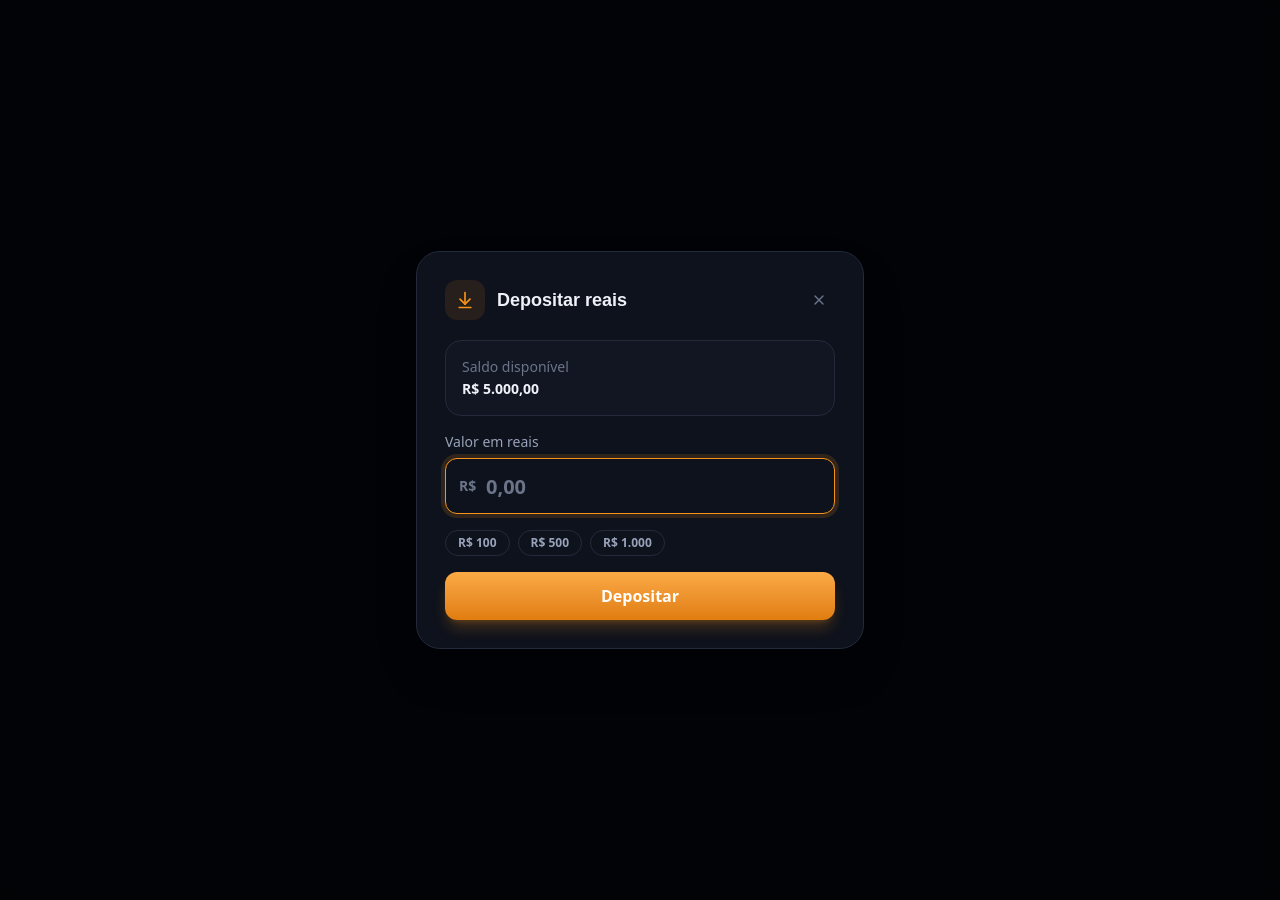
Scenario: OperationDialog › sends the amount in the API format and closes on success
The width and height of the screenshot is (1280, 900).
Type "1500,50" into the field labelled "Valor em reais" at (640, 486), box 445,458 -> 835,514
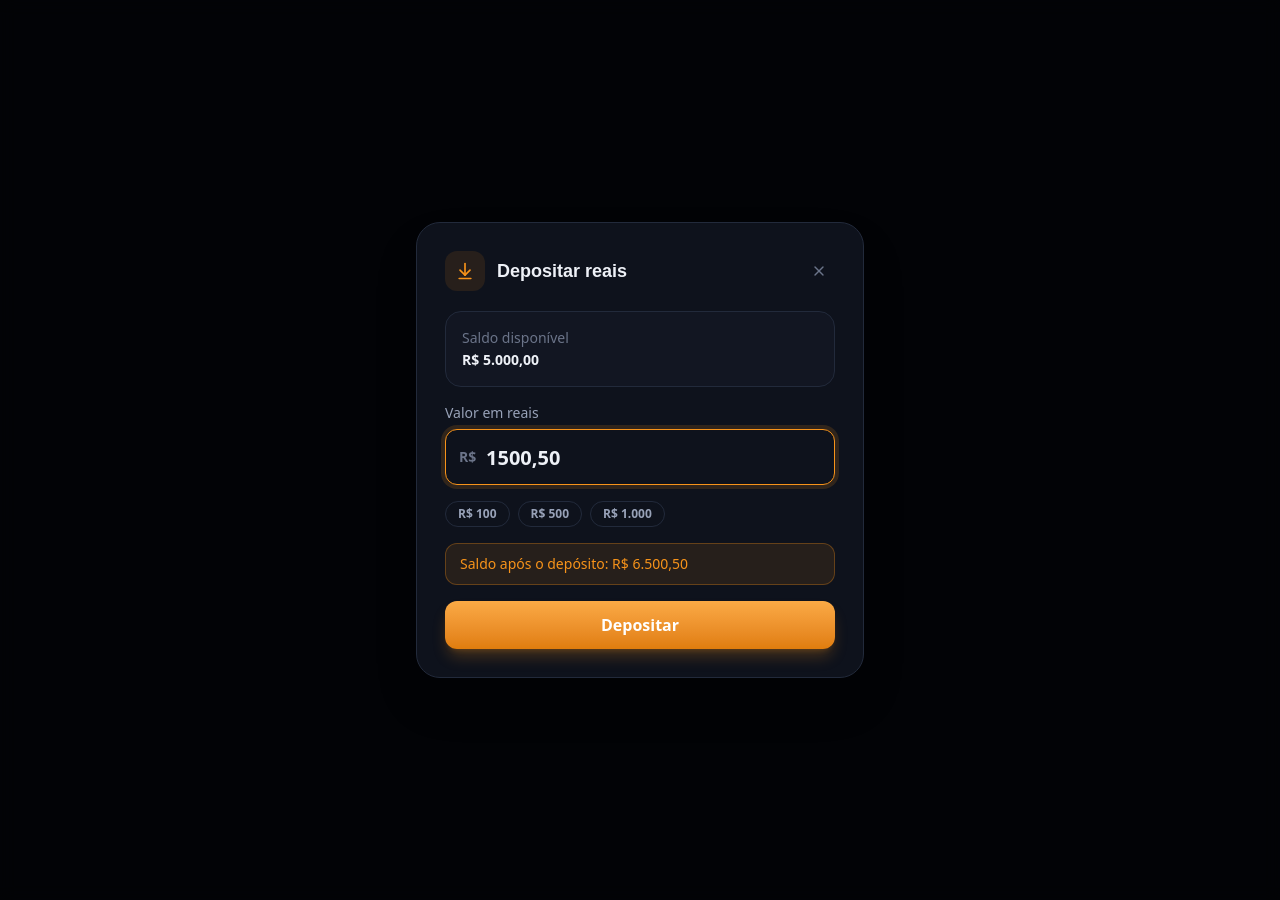
Click the button "Depositar" at (640, 625), box 445,601 -> 835,649
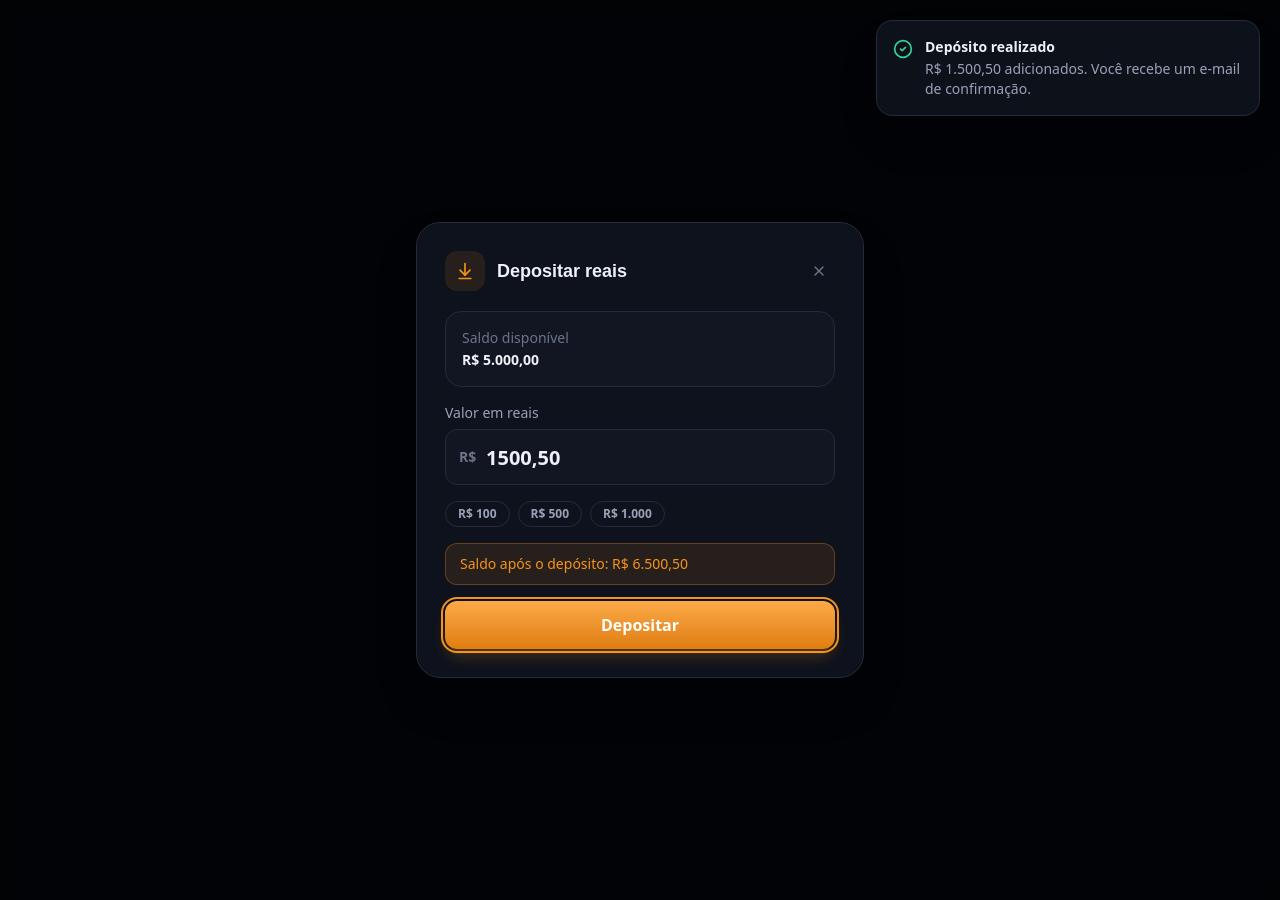
Expected: the text "Depósito realizado" is shown, 925,37 -> 1055,56
